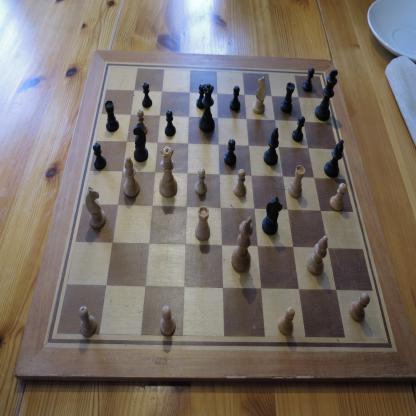black-bishop: (324, 139, 344, 179), (263, 126, 279, 167)
black-king: (314, 68, 338, 122)
black-knight: (261, 196, 283, 236), (133, 122, 149, 163)
black-pawn: (92, 142, 107, 171), (292, 115, 306, 144), (224, 138, 237, 167), (164, 109, 176, 138), (302, 67, 315, 93), (229, 85, 241, 113), (142, 82, 152, 108), (196, 84, 205, 110)
black-queen: (199, 83, 215, 133)
black-rook: (104, 99, 119, 133), (280, 82, 295, 114)
white-bishop: (306, 235, 328, 276), (123, 156, 140, 198)
white-king: (231, 216, 254, 273)
white-knight: (84, 186, 107, 230), (252, 76, 267, 116)
white-pawn: (348, 292, 370, 322), (78, 304, 97, 338), (330, 182, 348, 212), (278, 307, 296, 336), (160, 304, 176, 336), (233, 168, 247, 198), (194, 167, 207, 195), (136, 108, 148, 136)
white-queen: (158, 144, 178, 198)
white-rook: (288, 164, 306, 200), (194, 205, 211, 241)
